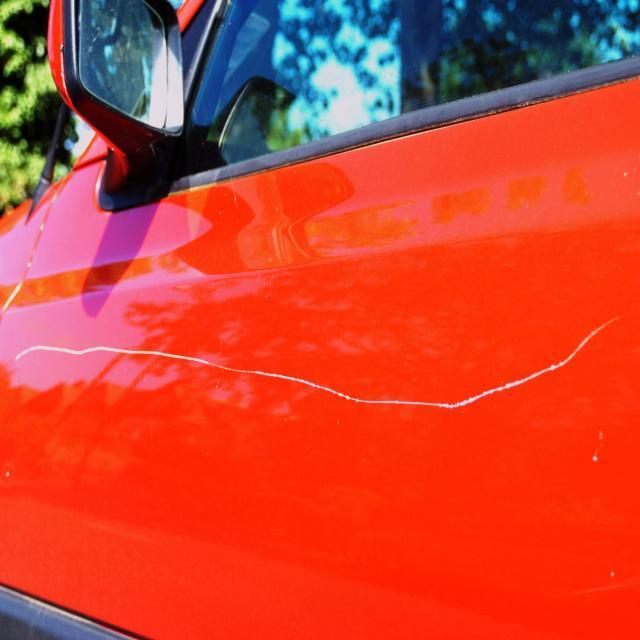scratch: (1, 301, 634, 436)
